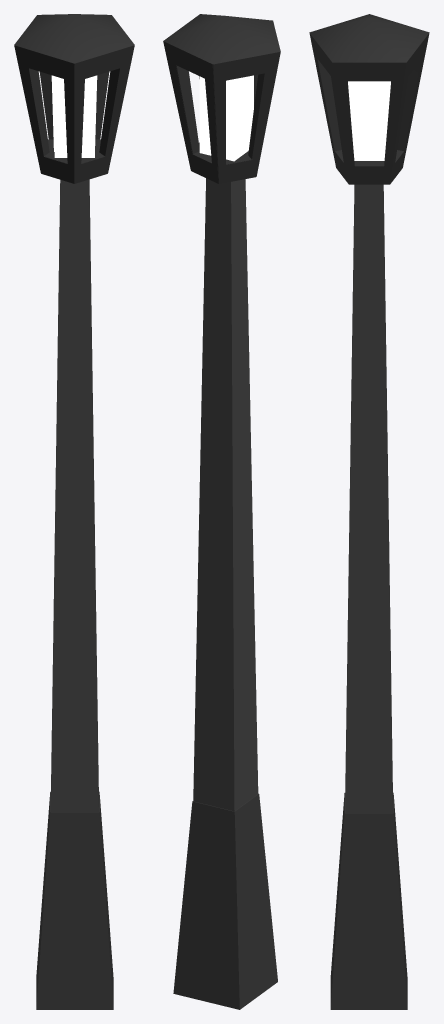
Rendered from SingleStreetlamp.fbx.
The picture shows the model from 3 angles, left to right: view 1: azimuth 90°, elevation 25°; view 2: azimuth 150°, elevation 25°; view 3: azimuth 270°, elevation 25°; orthographic projection.
Visible parts, largest first — view 1: Model_1_Alive.004, Model_0_Dead.004, Model_0_Alive.003; view 2: Model_1_Alive.004, Model_0_Dead.004, Model_0_Alive.003; view 3: Model_1_Alive.004, Model_0_Dead.004, Model_0_Alive.003.
Part boxes in pixels (x1,y1,x2,y2): Model_1_Alive.004: (14, 14, 134, 811); Model_0_Dead.004: (36, 791, 113, 1009); Model_0_Alive.003: (14, 14, 134, 163); Model_1_Alive.004: (176, 16, 280, 811); Model_0_Dead.004: (173, 793, 277, 1009); Model_0_Alive.003: (163, 14, 272, 183); Model_1_Alive.004: (309, 14, 429, 812); Model_0_Dead.004: (330, 792, 407, 1009); Model_0_Alive.003: (309, 18, 429, 184).
Size of the model in its own units: 0.8189 by 7.67 by 0.856.
1 material, 1 textured.
